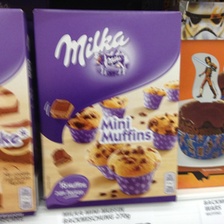cake: (31, 7, 184, 208)
